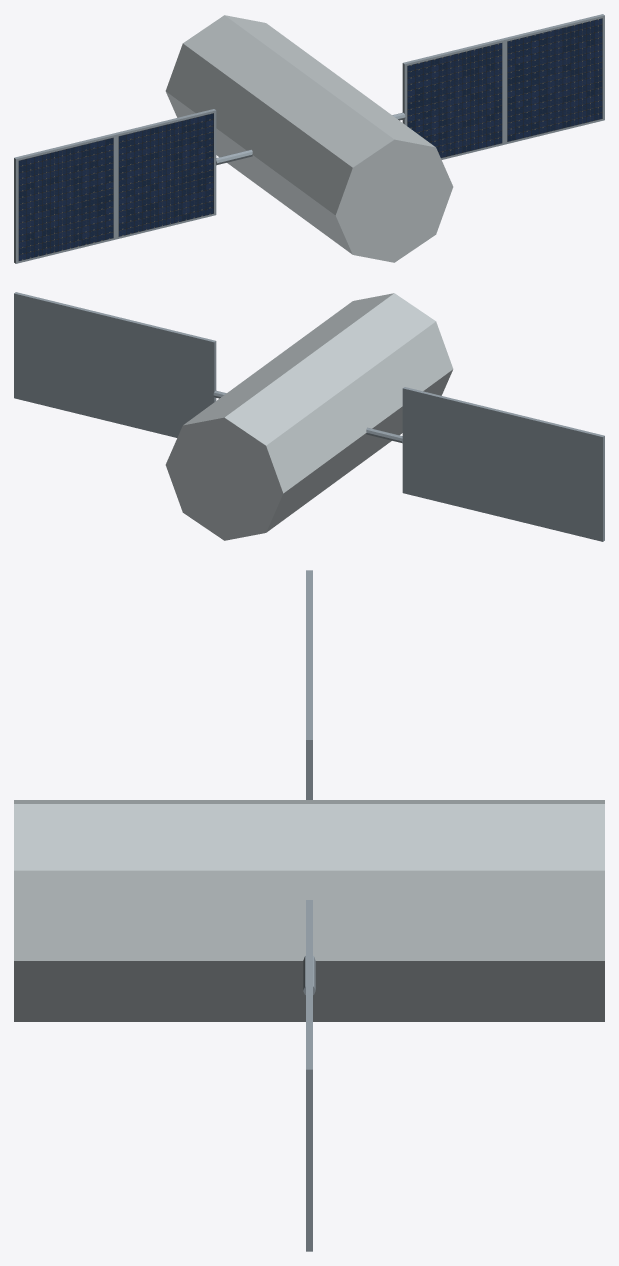
File: ref-sn-50-43762.glb
3 views of the same model, one above another, from view 1: azimuth 30°, elevation 25°; view 2: azimuth 150°, elevation 25°; view 3: azimuth 270°, elevation 25° (orthographic). The views are drawn at different scales.
Visible parts, largest first — view 1: Photovoltaic laminates (×4), Spacecraft body, Array frame (×4); view 2: Array frame (×4), Spacecraft body; view 3: Spacecraft body, Array frame (×2).
Boxes of the visible parts, bbox=[...] form: Photovoltaic laminates (×4): bbox=[18, 18, 602, 260]; Spacecraft body: bbox=[165, 15, 453, 262]; Array frame (×4): bbox=[14, 14, 604, 263]; Array frame (×4): bbox=[14, 292, 604, 541]; Spacecraft body: bbox=[165, 293, 453, 540]; Spacecraft body: bbox=[14, 800, 604, 1021]; Array frame (×2): bbox=[306, 655, 312, 1251].
Size of the model in its own units: 2 by 0.4 by 1.
3 materials, 1 textured.
